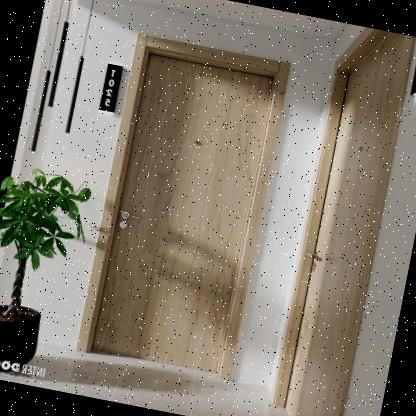door: (74, 29, 294, 386), (257, 21, 416, 416)
